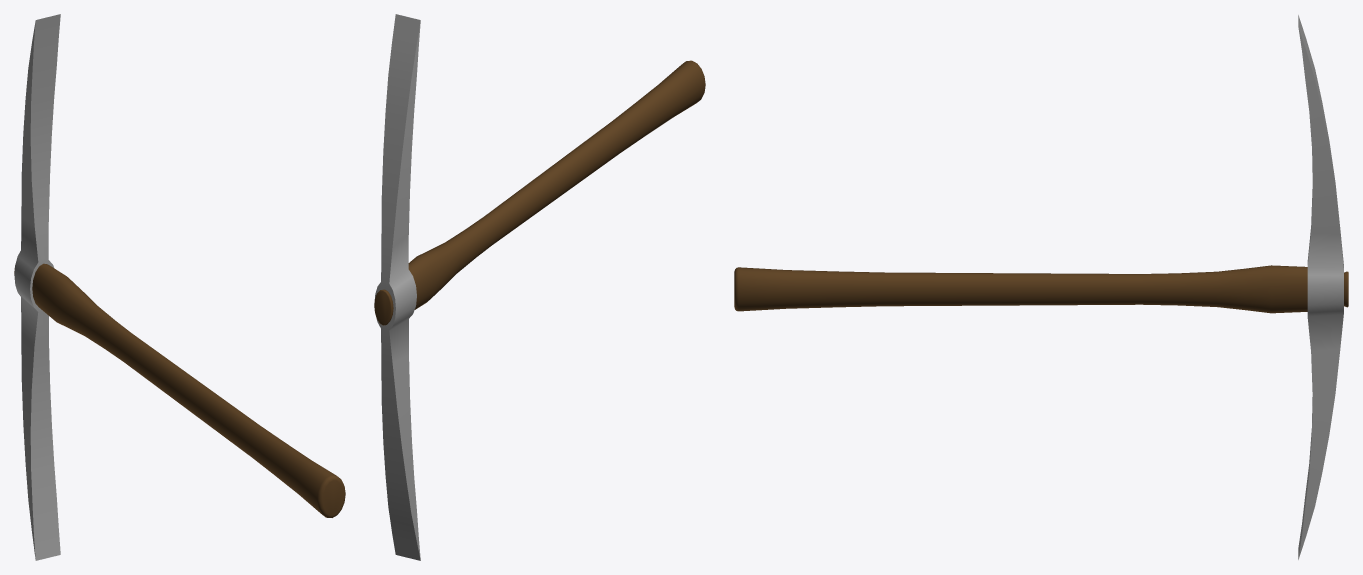
Rendered from PickAxe_2.fbx.
3 renders of one model, left to right at view 1: azimuth 30°, elevation 25°; view 2: azimuth 150°, elevation 25°; view 3: azimuth 270°, elevation 25°, orthographic.
Parts seen in each view (by area): view 1: Cylinder; view 2: Cylinder; view 3: Cylinder.
Boxes of the visible parts, x1,y1,x2,y2 form: Cylinder: (14, 14, 345, 560); Cylinder: (374, 14, 705, 560); Cylinder: (734, 15, 1348, 559).
Size of the model in its own units: 34.34 by 637 by 663.
